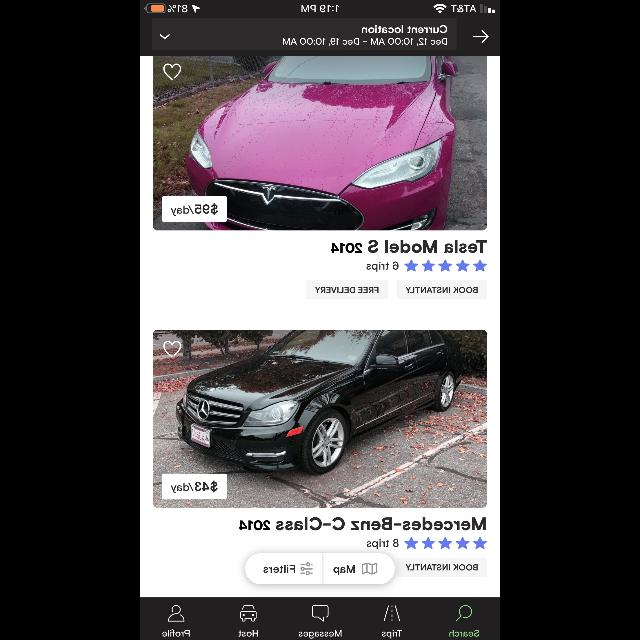icon: (404, 260, 486, 272), (404, 537, 486, 549), (163, 340, 181, 358), (168, 604, 185, 622), (163, 64, 181, 80), (456, 604, 472, 622), (312, 604, 328, 622), (473, 30, 489, 42), (160, 34, 170, 40)
image: (153, 330, 487, 508), (154, 56, 486, 230), (240, 604, 256, 622), (384, 605, 401, 621)
text: (238, 518, 486, 530), (331, 240, 487, 253), (283, 37, 447, 45), (361, 23, 447, 32), (170, 481, 218, 494), (170, 204, 218, 216), (298, 630, 342, 638), (366, 539, 398, 549), (366, 262, 398, 272), (449, 629, 479, 637), (162, 629, 190, 637), (382, 630, 402, 638), (238, 630, 258, 636)
textbutton: (244, 554, 322, 584), (324, 554, 394, 584), (397, 280, 487, 300), (306, 280, 388, 300), (397, 558, 487, 576)
uppertaskbar: (140, 0, 500, 14)
